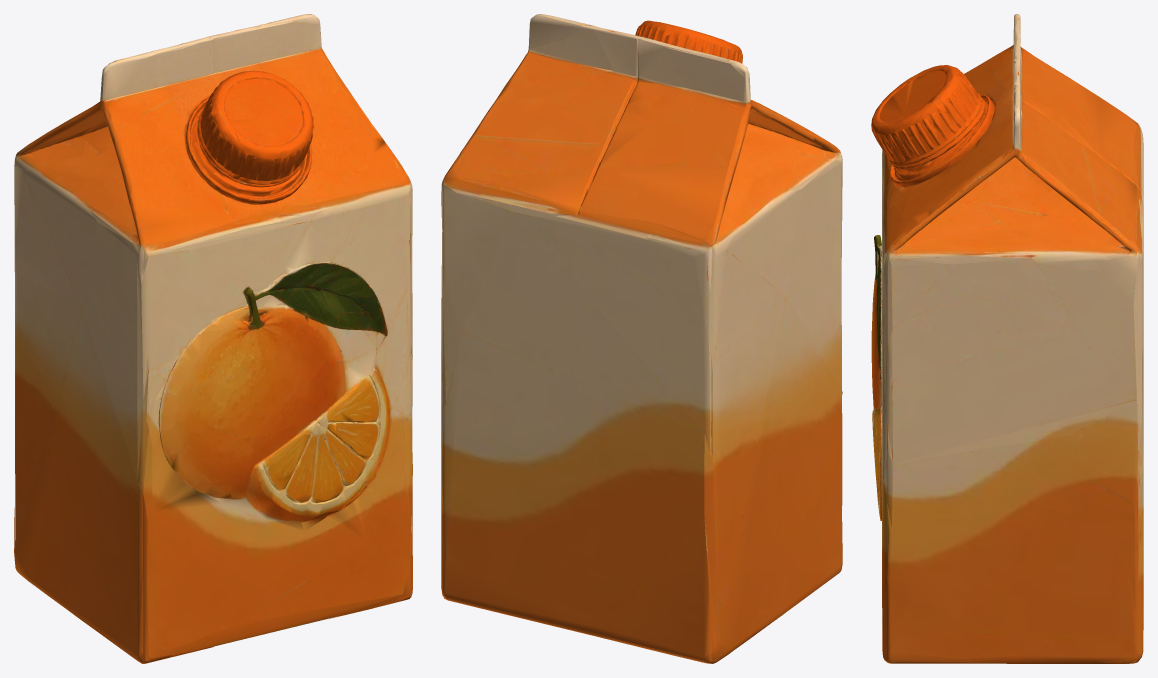
File: upm_mv3pqfaz3q7.glb
The picture shows the model from 3 angles, left to right: view 1: azimuth 30°, elevation 25°; view 2: azimuth 150°, elevation 25°; view 3: azimuth 270°, elevation 25°; orthographic projection. The views are drawn at different scales.
Size of the model in its own units: 0.9985 by 1.9 by 0.8703.
1 material, 1 textured.
